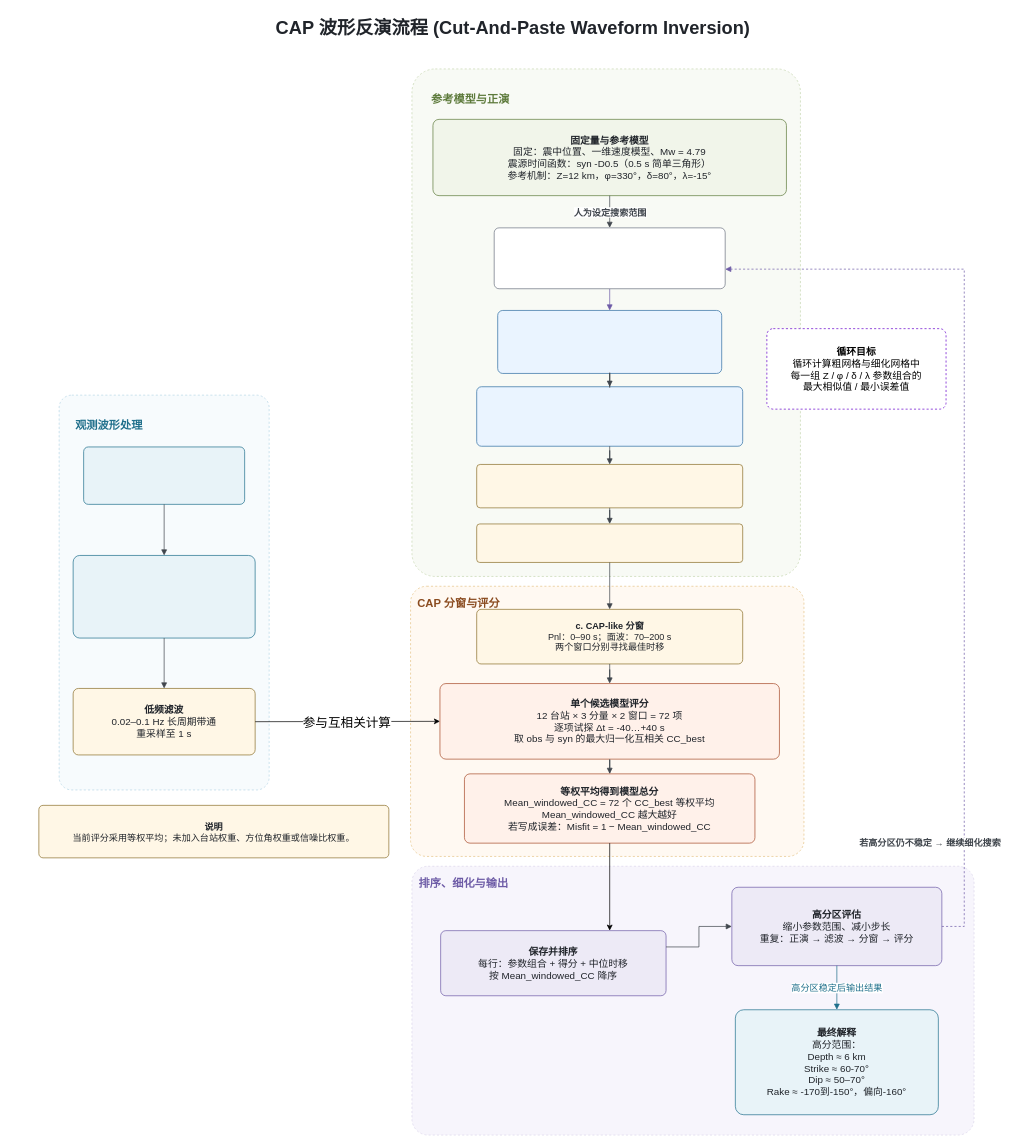
Some shapes in this 1025 by 1147 pixel diagram are drawn without their labels. Here are the shapes that lost their labels. From the top down, the centre of each, then its label:
pixel 609 258: 设定搜索网格 参数组合：Z / φ / δ / λ 范围由参考解、经验和计算量人为设定 粗网格 → 高分区细化
pixel 609 341: 按候选深度 Z 调用 FK 计算各台站 Green 函数 同一深度可复用
pixel 609 416: 按候选机制 φ / δ / λ 调用 syn 合成理论 Z/R/T 波形
pixel 164 475: 观测数据 12 台站 × 3 分量位移记录
pixel 609 486: a. 理论波形同频带滤波 0.02–0.1 Hz，与观测保持一致
pixel 609 542: b. 分量旋转 Z/R/T → N/E/Z
pixel 163 596: 读取观测波形 读取 SAC 头段与数据 提取 dist / az / 分量方向 检查台站方位覆盖
